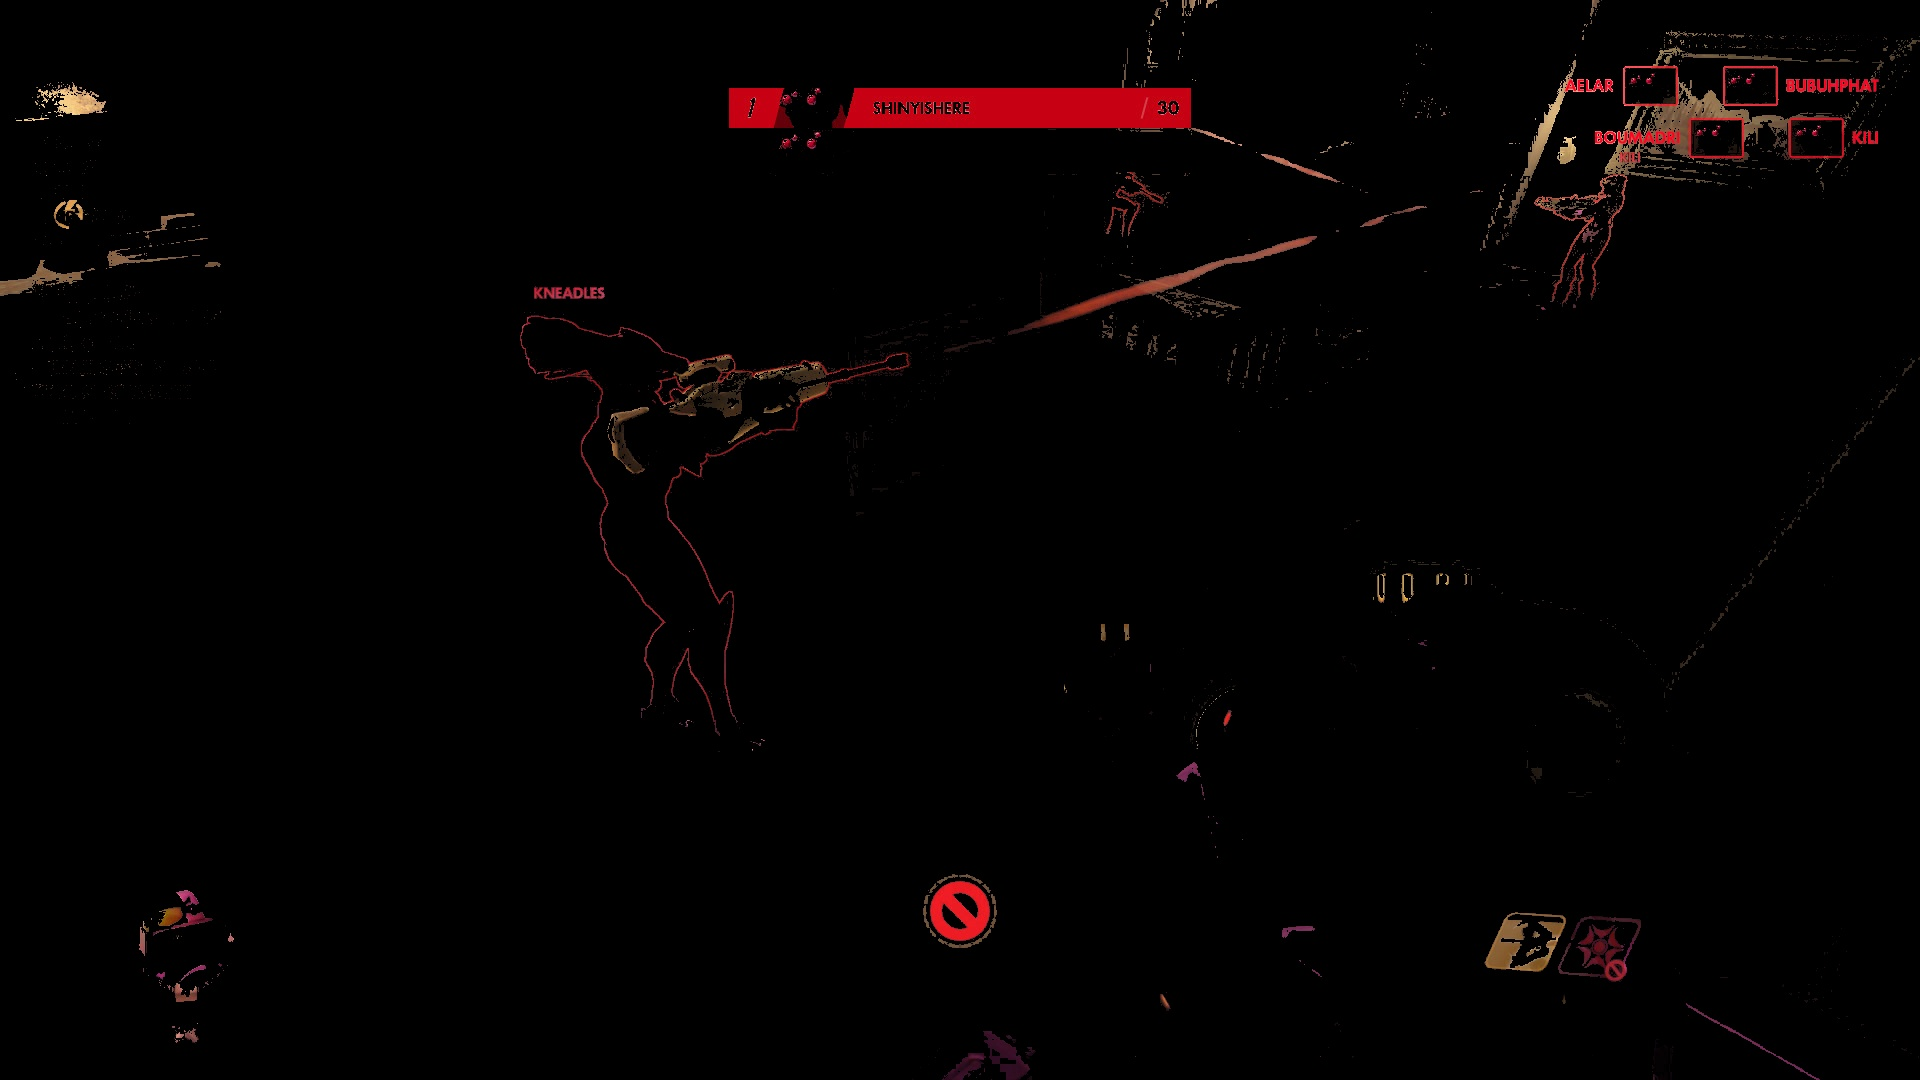widowmaker: (520, 311, 785, 767), (1547, 165, 1631, 322), (1100, 167, 1149, 247)
